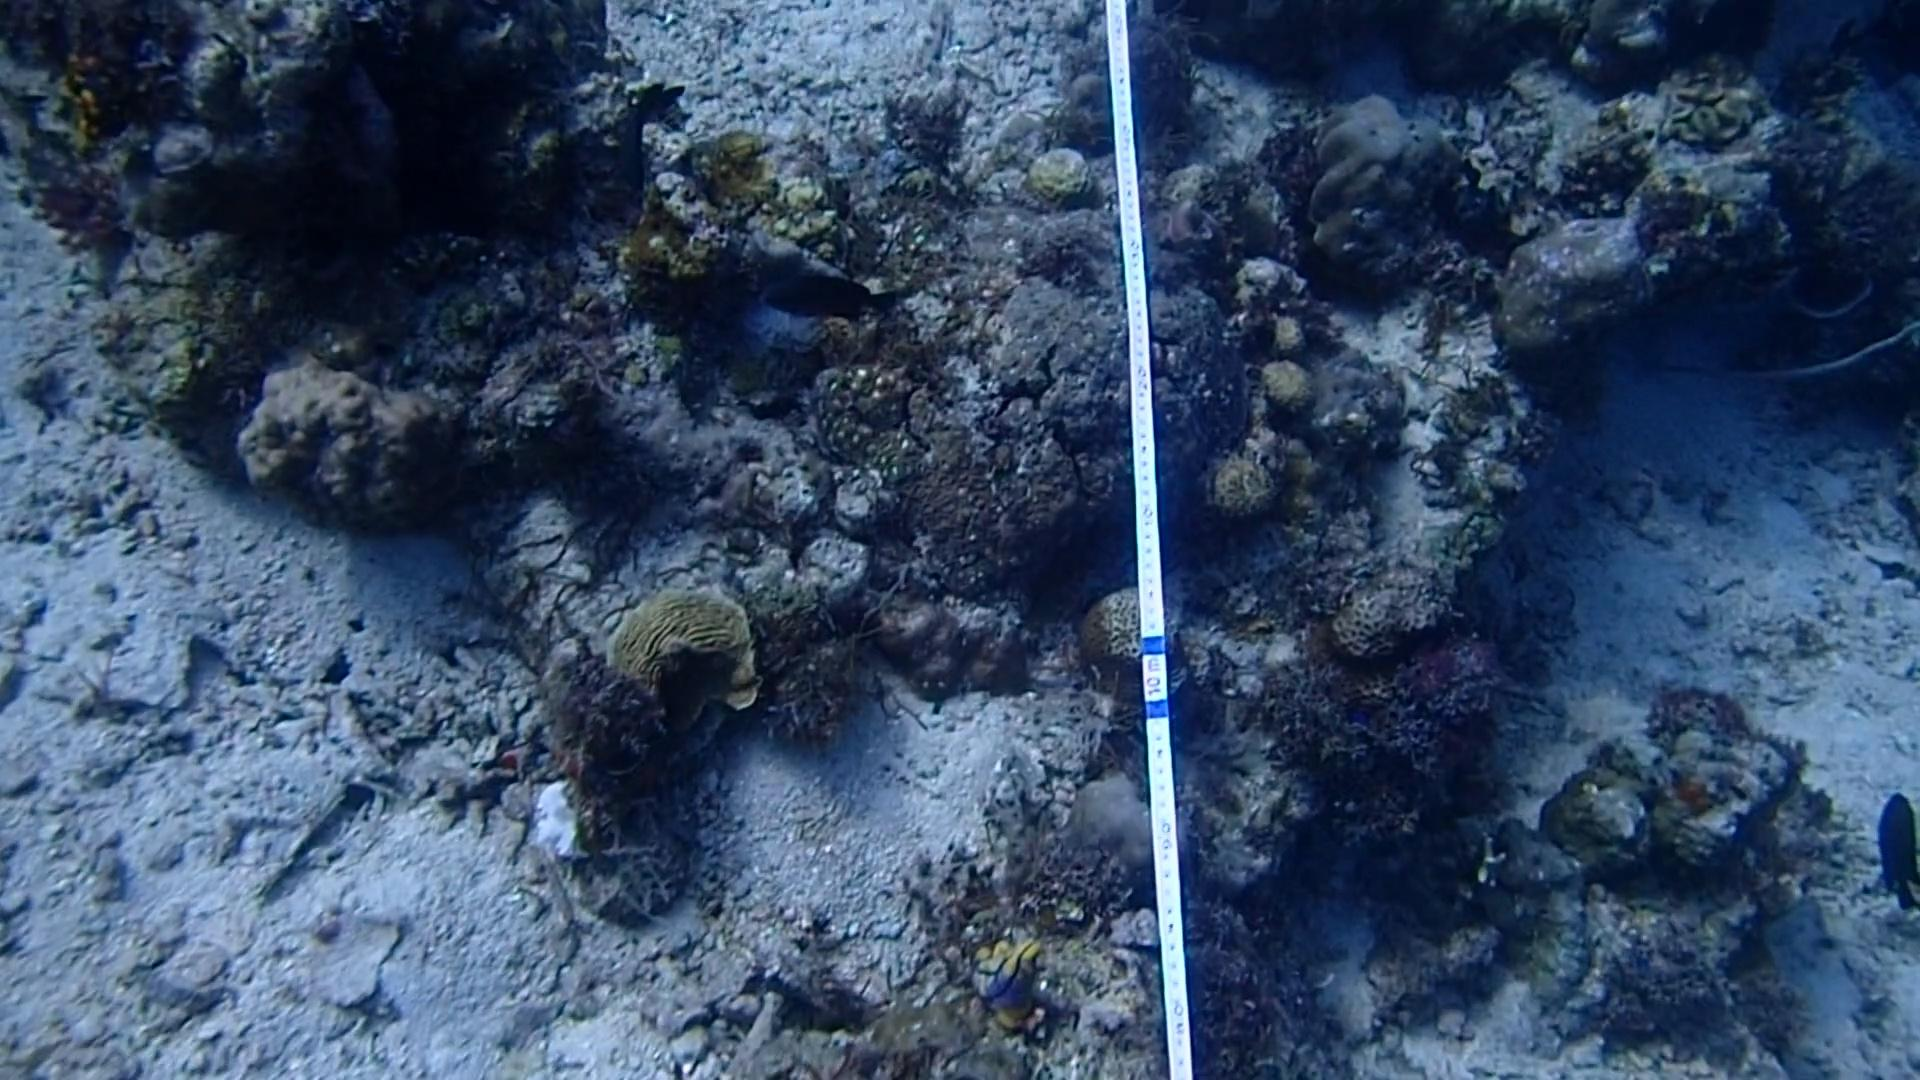Dark Fish: (757, 260, 898, 331), (1869, 786, 1920, 910)
